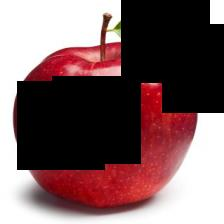red: (24, 64, 183, 206)
